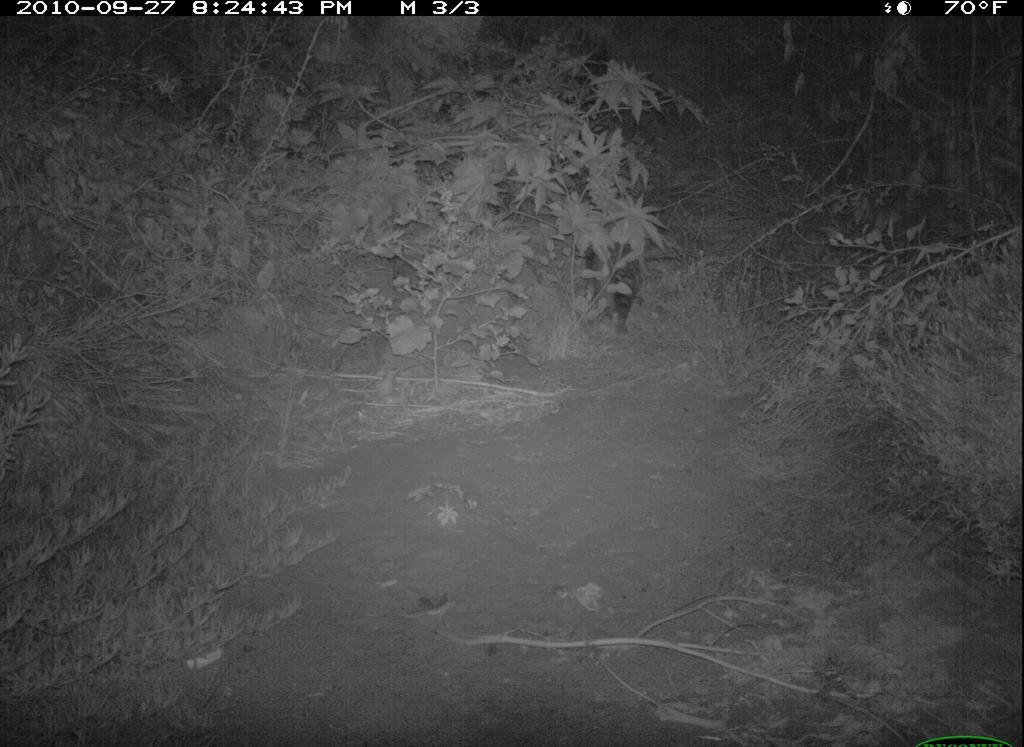raccoon: (584, 218, 649, 341)
